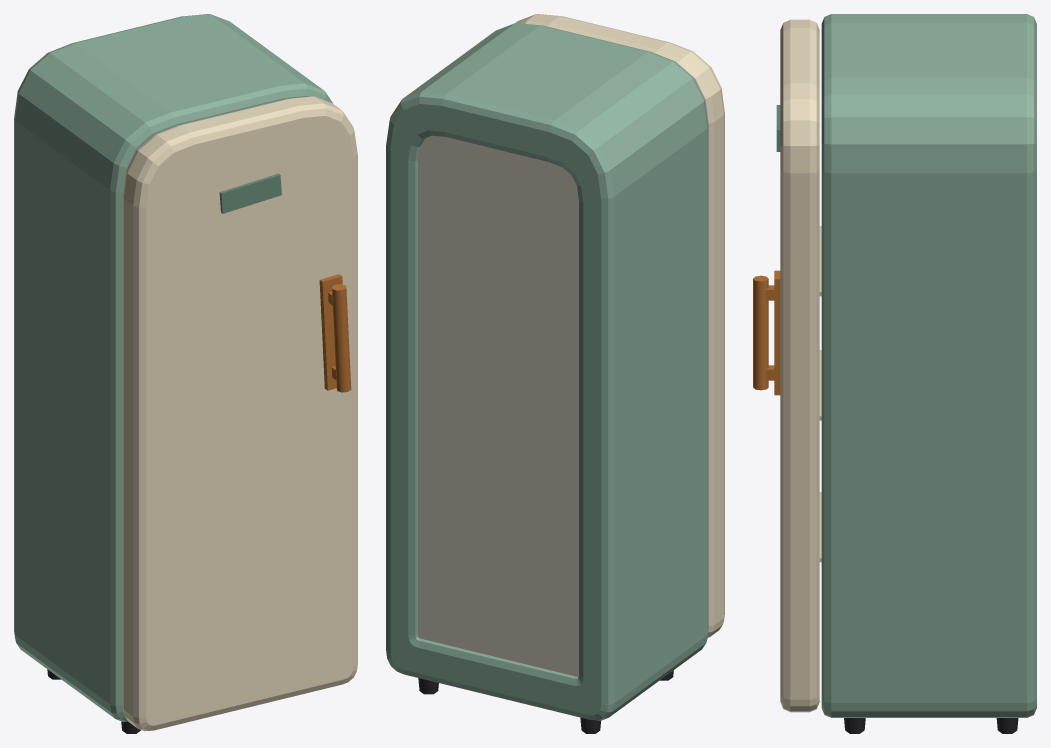
File: Koelkast.glb
The picture shows the model from 3 angles, left to right: view 1: azimuth 30°, elevation 25°; view 2: azimuth 150°, elevation 25°; view 3: azimuth 270°, elevation 25°; orthographic projection. The views are drawn at different scales.
Parts seen in each view (by area): view 1: Door, Body, DoorHandle, DoorBadge; view 2: Body, Liner, Door, Feet; view 3: Body, Door, DoorHandle, Feet, DoorRacks.
Boxes of the visible parts, <box> form: Door: <box>122,96,357,731</box>; Body: <box>14,14,332,721</box>; DoorHandle: <box>319,274,351,392</box>; DoorBadge: <box>219,173,281,213</box>; Body: <box>386,23,708,720</box>; Liner: <box>418,135,578,676</box>; Door: <box>515,14,724,637</box>; Feet: <box>418,670,673,733</box>; Body: <box>821,14,1036,717</box>; Door: <box>780,19,819,712</box>; DoorHandle: <box>753,270,780,395</box>; Feet: <box>844,718,1018,733</box>; DoorRacks: <box>819,226,821,562</box>.
Size of the model in its own units: 0.7 by 1.8 by 0.725.
